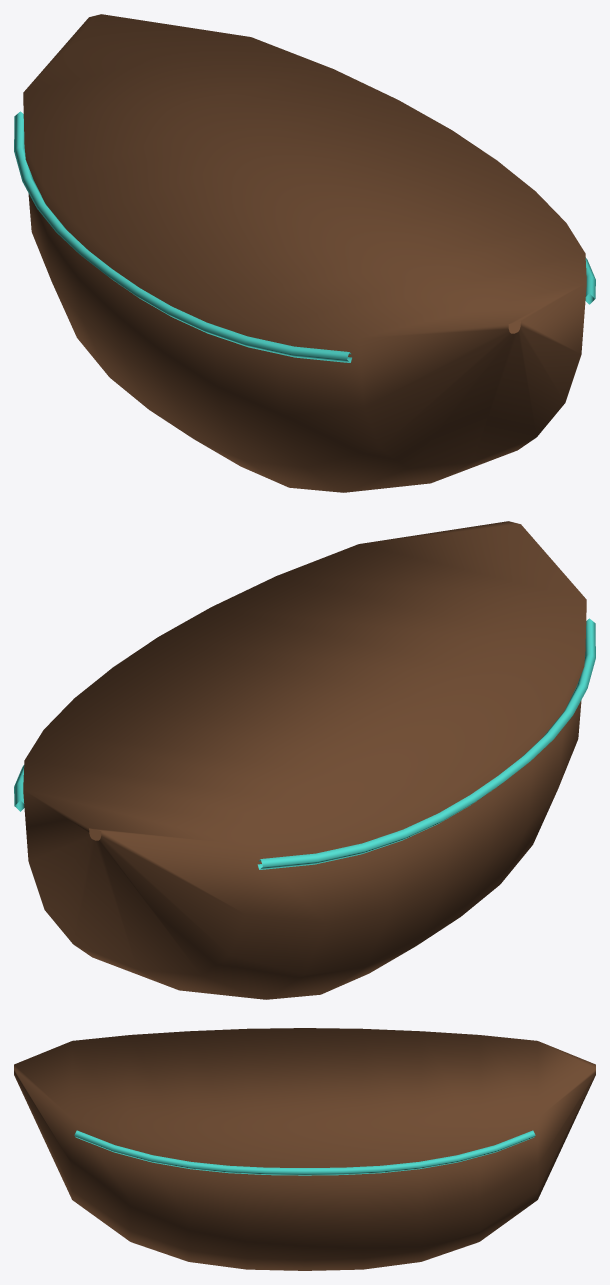
Rendered from k1_board.obj.
The picture shows the model from 3 angles, top to bottom: view 1: azimuth 30°, elevation 25°; view 2: azimuth 150°, elevation 25°; view 3: azimuth 270°, elevation 25°; orthographic projection. The views are drawn at different scales.
Visible parts, largest first — view 1: k1_board; view 2: k1_board; view 3: k1_board.
Boxes of the visible parts, box(x1,y1,x2,y2) form: k1_board: box(14, 14, 595, 492); k1_board: box(14, 521, 595, 999); k1_board: box(14, 1028, 595, 1270).
Size of the model in its own units: 0.7675 by 0.47 by 1.4.
